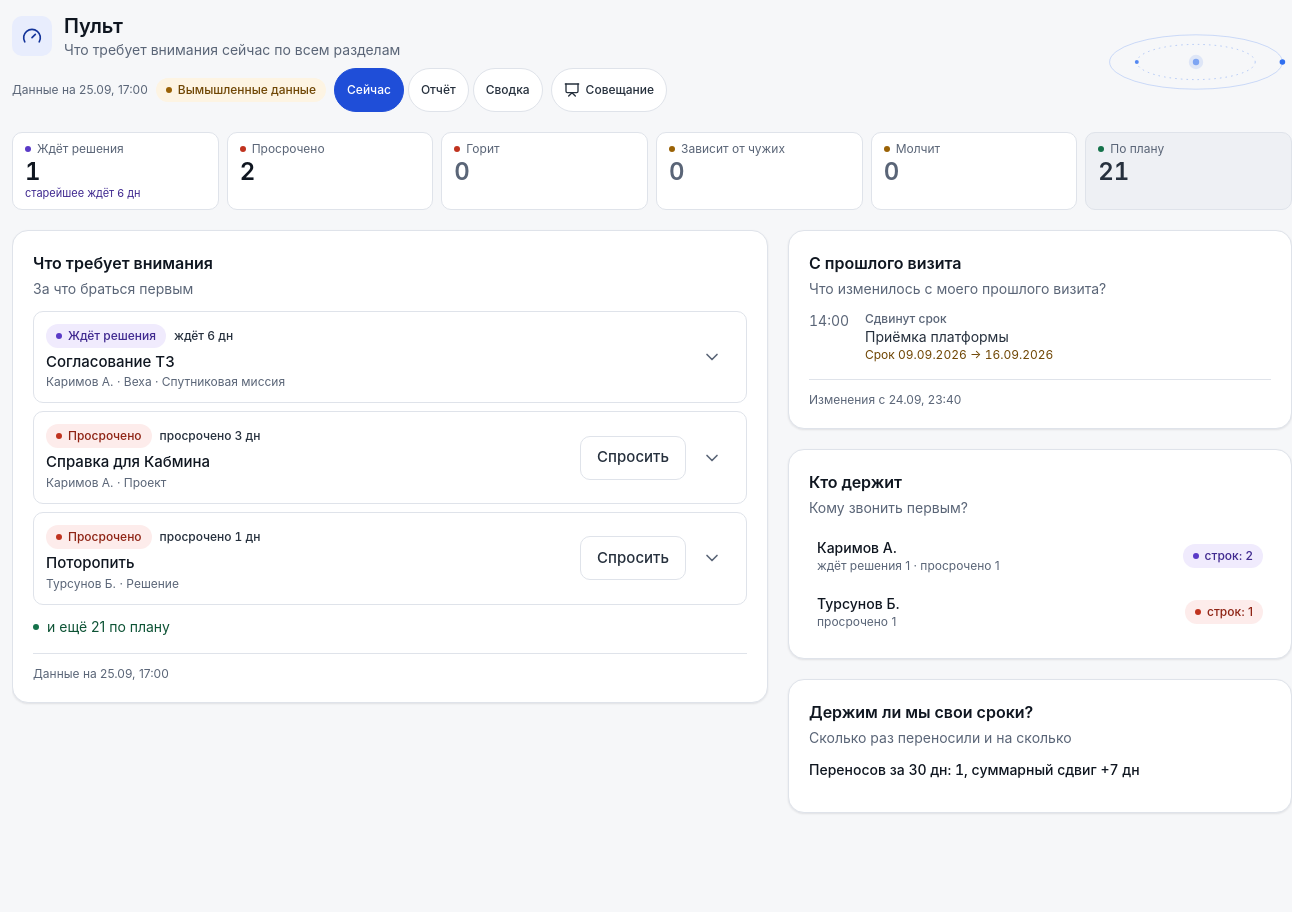
Пульт › счётчик ступени — фильтр лестницы
Check: the text "Согласование ТЗ" is shown, box [46,352,174,371]
Click the button with aria-label "Показать только: Ждёт решения" at [115, 171], box [12,132,219,210]
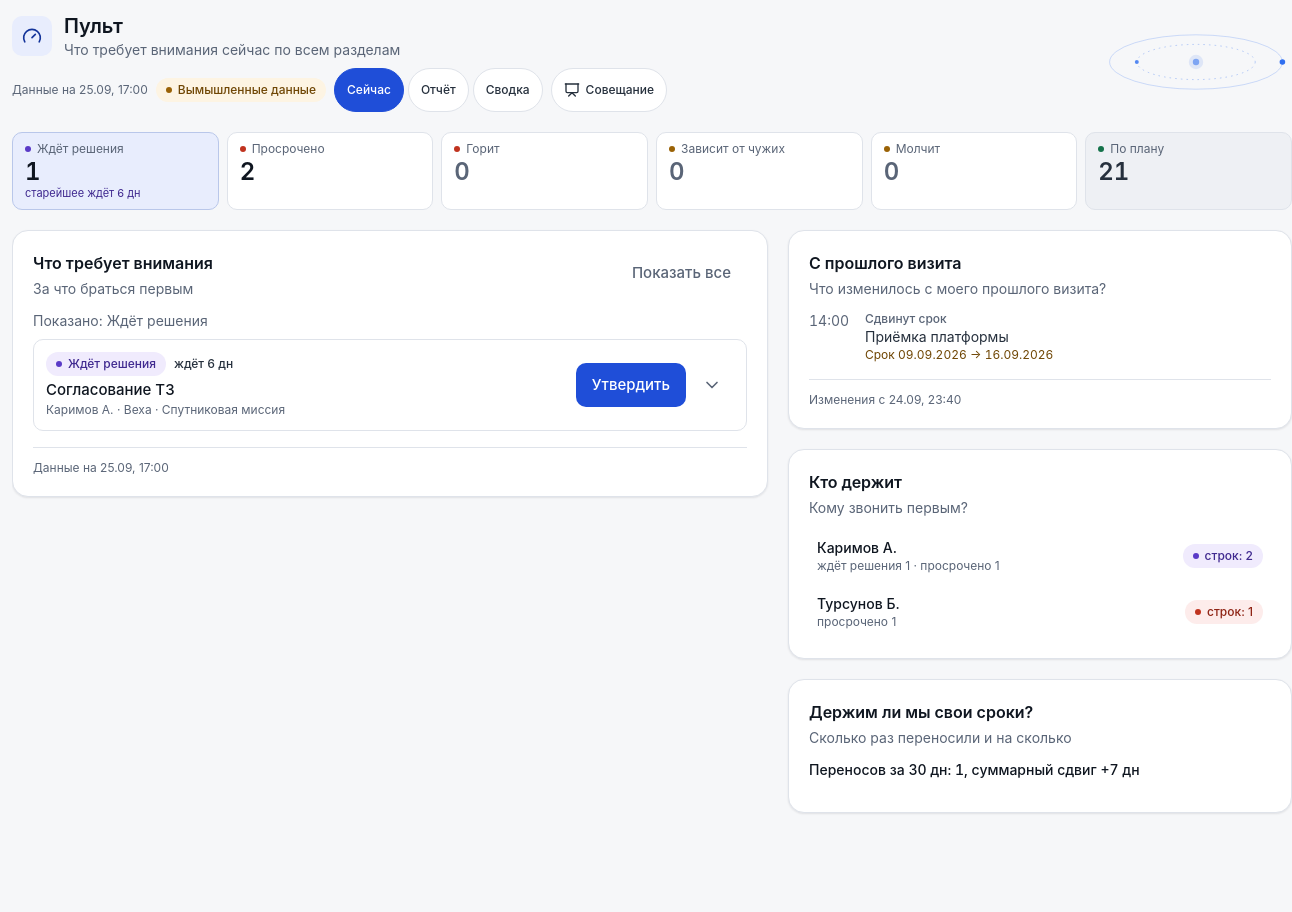
Check: the text "Согласование ТЗ" is shown, box [46,380,174,399]
Check: the button "Справка для Кабмина" is gone
